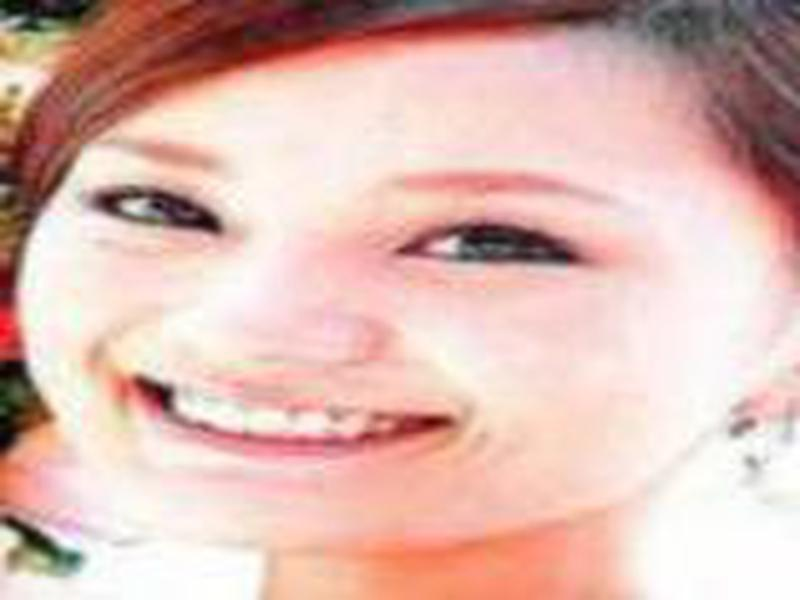without_mask: (15, 68, 745, 553)
